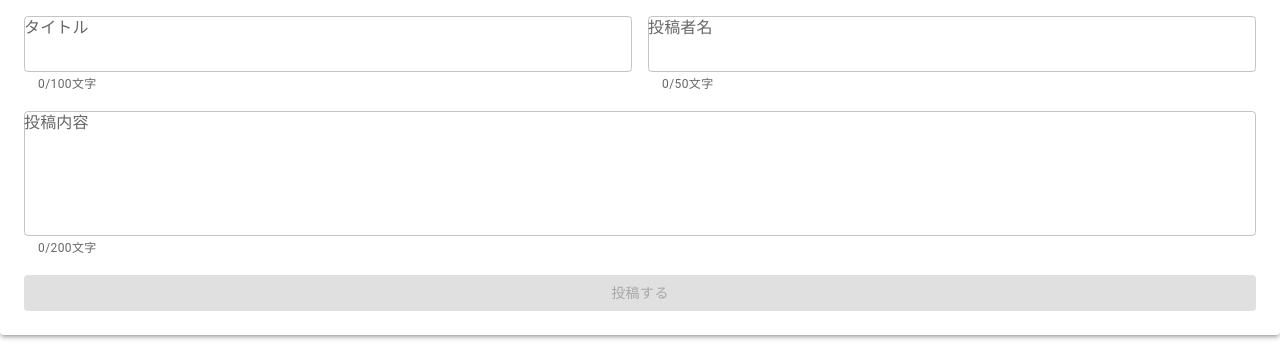
Scenario: PostForm › enables submit button when all fields are filled
In the field labelled "タイトル": (328,44) [24, 16, 632, 72], type "テストタイトル"
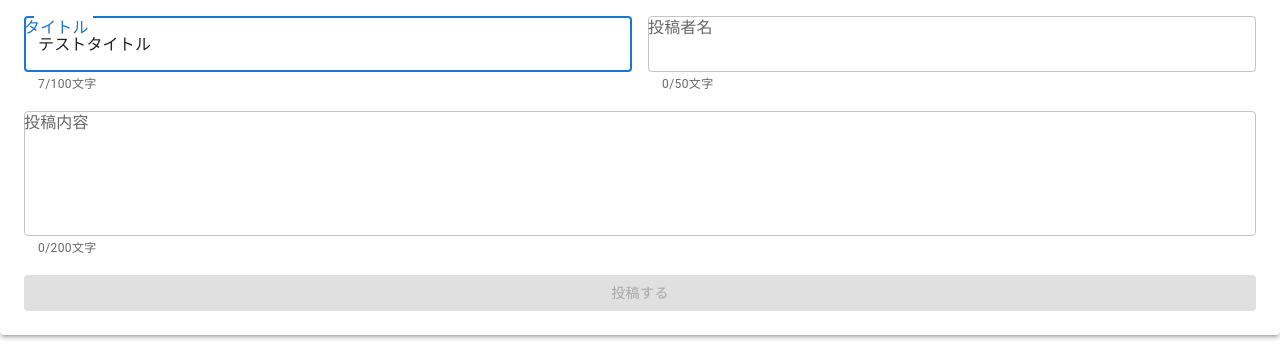
In the field labelled "投稿者名": (952,44) [648, 16, 1256, 72], type "テストユーザー"
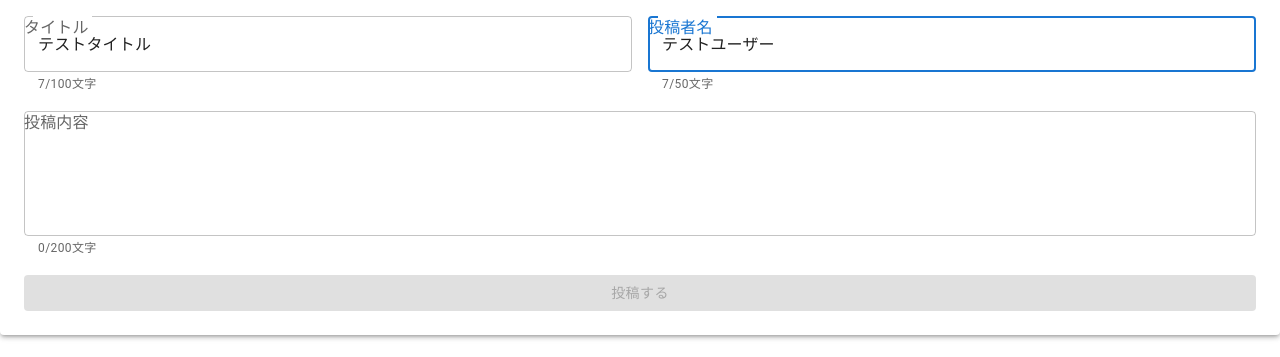
In the text box labelled "投稿内容": (640,173) [38, 127, 1242, 219], type "テスト内容"
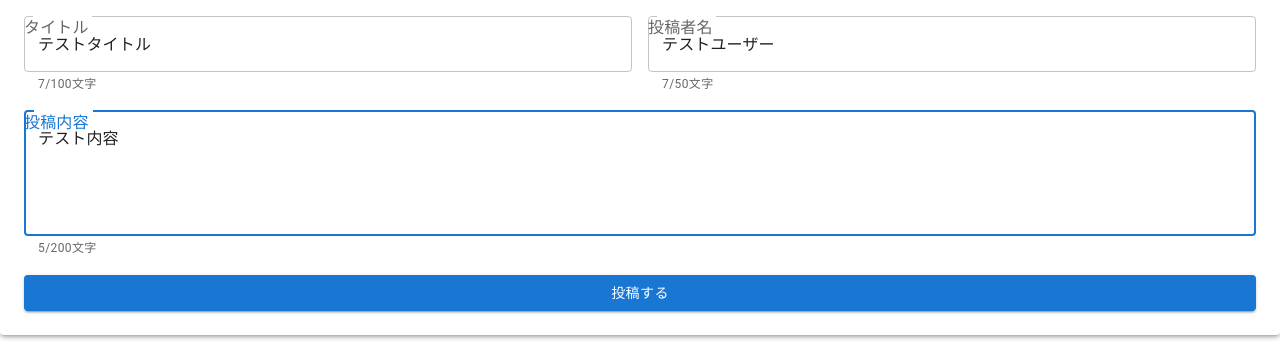
Expected: the button "投稿する" is enabled, [24, 275, 1256, 311]
